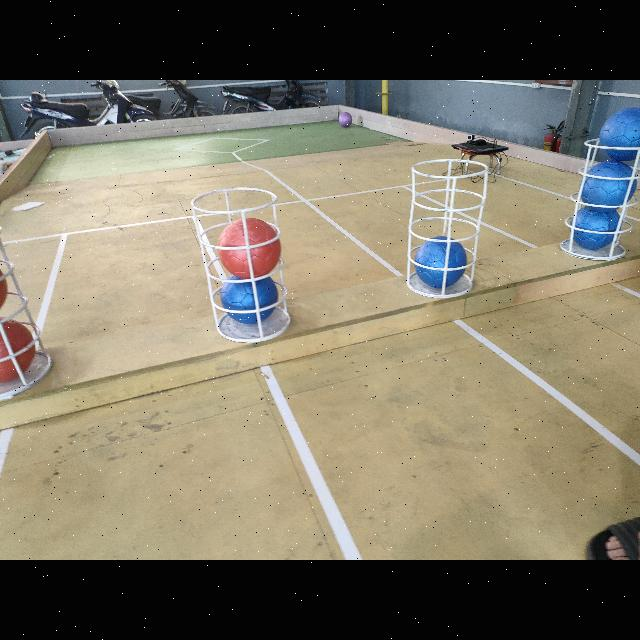B: (579, 160, 637, 208), (221, 274, 279, 322), (414, 234, 464, 288), (596, 105, 640, 162), (572, 201, 616, 245)
R: (217, 214, 281, 278), (0, 315, 38, 385), (0, 260, 12, 312)
